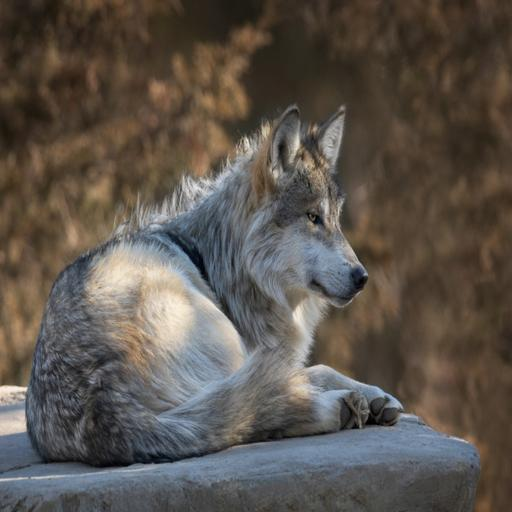Wolf: (23, 101, 405, 465)
